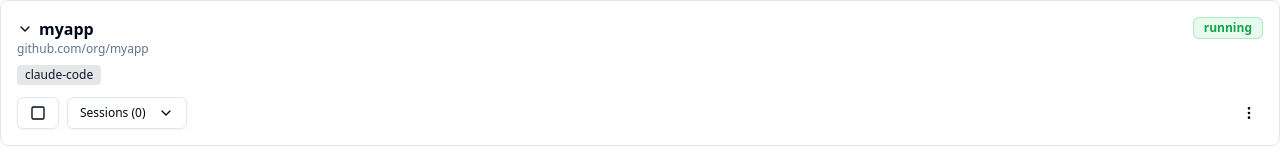
Test: WorkspaceCard — repli › replié : recettes masquées, mais nom/source restent lisibles
Click the button with test id "workspace-collapse-myapp": (55, 29) [17,17,94,41]
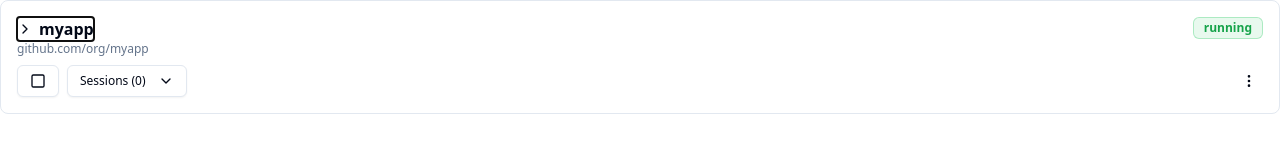
expect the text "github.com/org/myapp" is shown: met, box [17,41,149,57]
expect the text "claude-code" is gone: met
